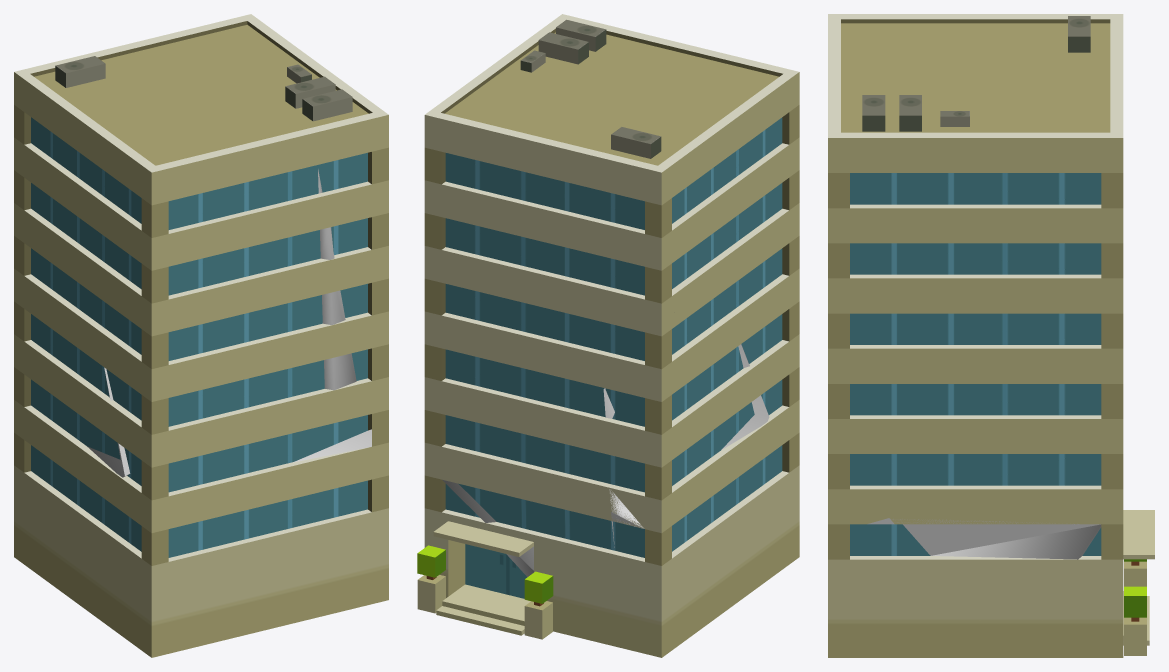
The model's file is house_03.FBX.
The picture shows the model from 3 angles, left to right: view 1: azimuth 30°, elevation 25°; view 2: azimuth 150°, elevation 25°; view 3: azimuth 270°, elevation 25°; orthographic projection. The views are drawn at different scales.
Parts seen in each view (by area): view 1: office_large_mesh_Part_2, office_large_mesh_Part_3, office_large_mesh_Part_1, office_large_mesh_Part_6, office_large_mesh_Part_5; view 2: office_large_mesh_Part_4, office_large_mesh_Part_1, office_large_mesh_Part_6, office_large_mesh_Part_5, office_large_mesh_Part_2, office_large_mesh_Part_3; view 3: office_large_mesh_Part_1, office_large_mesh_Part_4, office_large_mesh_Part_3, office_large_mesh_Part_6, office_large_mesh_Part_2.
Boxes of the visible parts, x1,y1,x2,y2 form: office_large_mesh_Part_2: [70, 113, 327, 508]; office_large_mesh_Part_3: [14, 428, 388, 657]; office_large_mesh_Part_1: [104, 14, 388, 437]; office_large_mesh_Part_6: [14, 50, 368, 429]; office_large_mesh_Part_5: [14, 218, 130, 549]; office_large_mesh_Part_4: [417, 336, 618, 640]; office_large_mesh_Part_1: [424, 14, 628, 407]; office_large_mesh_Part_6: [539, 44, 726, 388]; office_large_mesh_Part_5: [603, 290, 769, 649]; office_large_mesh_Part_2: [625, 29, 799, 415]; office_large_mesh_Part_3: [591, 408, 799, 657]; office_large_mesh_Part_1: [828, 61, 1123, 517]; office_large_mesh_Part_4: [867, 452, 1154, 657]; office_large_mesh_Part_3: [828, 484, 1012, 657]; office_large_mesh_Part_6: [850, 14, 1123, 101]; office_large_mesh_Part_2: [828, 14, 1001, 104].
Size of the model in its own units: 13.62 by 27.24 by 15.17.
Materials: 1 (1 with a texture image).
